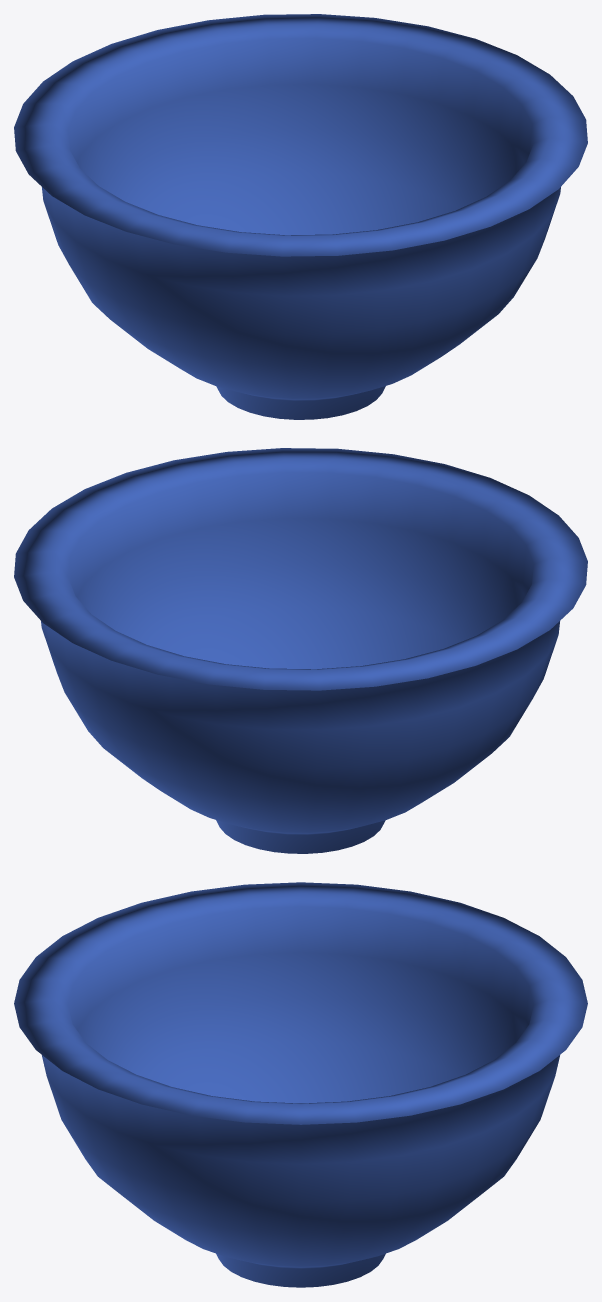
Rendered from bowl2.glb.
3 views of the same model, one above another, from view 1: azimuth 30°, elevation 25°; view 2: azimuth 150°, elevation 25°; view 3: azimuth 270°, elevation 25° (orthographic).
Parts seen in each view (by area): view 1: Sphere; view 2: Sphere; view 3: Sphere.
Boxes of the visible parts, x1,y1,x2,y2 form: Sphere: (14,14,587,419); Sphere: (14,448,587,853); Sphere: (14,882,587,1287).
Bounding box in the file's own units: 0.2582 × 0.1256 × 0.2582.
